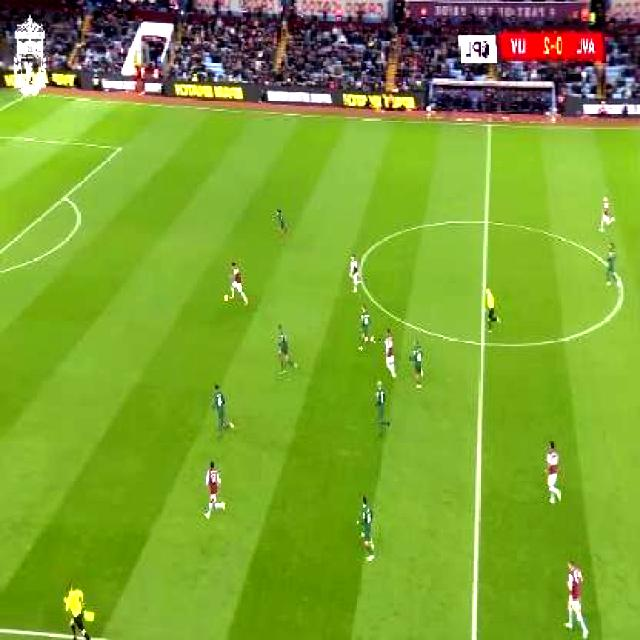bigarea_top_inner: (114, 138, 129, 157)
halfcircle_bottom: (474, 328, 495, 358)
halfcircle_top: (475, 208, 497, 234)
midline_top_intersection: (481, 114, 497, 134)
top_arc_area_intersection: (58, 186, 74, 205)
